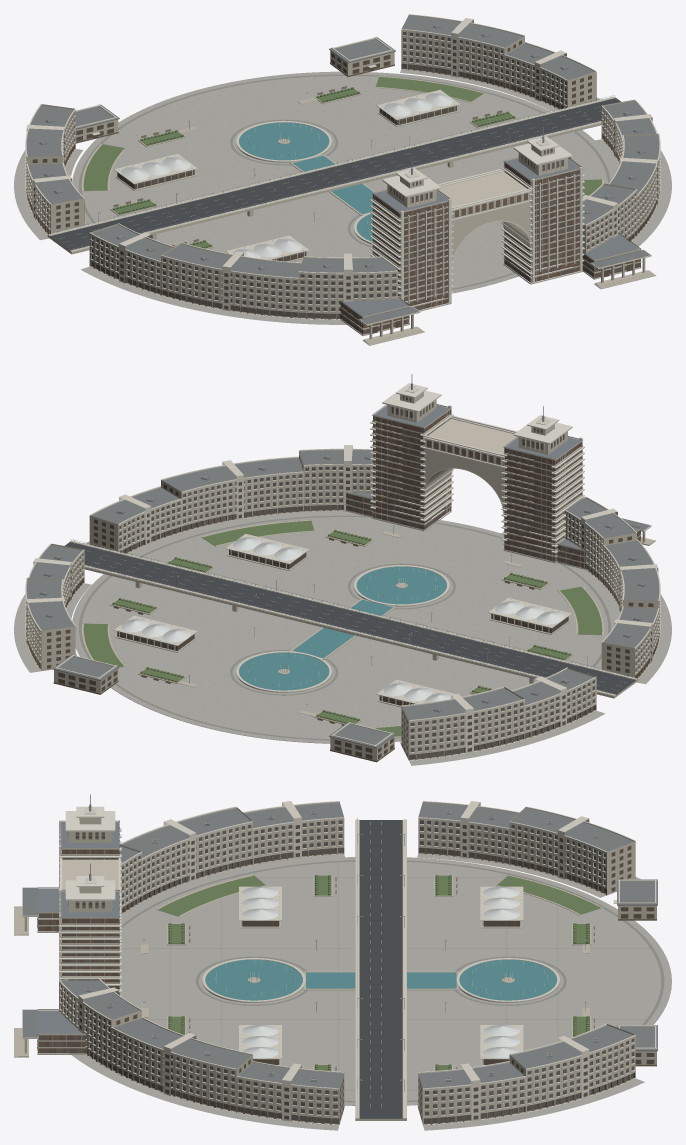
File: arch-r7-draco.glb
The picture shows the model from 3 angles, top to bottom: view 1: azimuth 30°, elevation 25°; view 2: azimuth 150°, elevation 25°; view 3: azimuth 270°, elevation 25°; orthographic projection. The views are drawn at different scales.
Visible parts, largest first — view 1: Court paving, Court limestone, Court cornice, Court roof, Court asphalt, Portal Arch frame, Portal Arch stone, Court water, Court planting, Court bronze, Portal Arch glass0, Portal Arch glass2 (+12 smaller); view 2: Court paving, Court limestone, Court cornice, Court roof, Court asphalt, Portal Arch stone, Portal Arch frame, Court water, Court planting, Court bronze, Court canopy, Portal Arch glass2 (+12 smaller); view 3: Court paving, Court limestone, Court cornice, Court roof, Court asphalt, Court water, Portal Arch frame, Court planting, Portal Arch stone, Court canopy, Court seam, Court plinth (+12 smaller).
Part boxes in pixels (x1,y1,x2,y2): Court paving: (14, 69, 671, 324); Court limestone: (26, 15, 659, 345); Court cornice: (25, 14, 660, 339); Court roof: (26, 15, 659, 324); Court asphalt: (50, 98, 620, 250); Portal Arch frame: (342, 136, 640, 332); Portal Arch stone: (339, 145, 641, 335); Court water: (239, 122, 373, 241); Court planting: (83, 77, 602, 248); Court bronze: (32, 24, 657, 333); Portal Arch glass0: (340, 166, 640, 334); Portal Arch glass2: (340, 164, 640, 334); Court paving: (14, 511, 671, 765); Court limestone: (26, 451, 659, 760); Court cornice: (25, 386, 660, 760); Court roof: (26, 450, 659, 748); Court asphalt: (65, 542, 635, 694); Portal Arch stone: (341, 392, 641, 569); Portal Arch frame: (347, 383, 640, 566); Court water: (239, 566, 446, 690); Court planting: (83, 520, 602, 736); Court bronze: (26, 395, 653, 759); Court canopy: (100, 537, 585, 702); Portal Arch glass2: (346, 411, 640, 568); Court paving: (56, 854, 671, 1130); Court limestone: (14, 802, 656, 1124); Court cornice: (22, 801, 657, 1125); Court roof: (22, 802, 657, 1088); Court asphalt: (359, 820, 402, 1118); Court water: (205, 959, 556, 1000); Portal Arch frame: (37, 806, 121, 1052); Court planting: (158, 875, 600, 1071); Portal Arch stone: (37, 818, 119, 1054); Court canopy: (242, 834, 519, 1080); Court seam: (121, 860, 664, 1102); Court plinth: (85, 847, 656, 1124).
Bounding box in the file's own units: 328 × 78.45 × 305.
